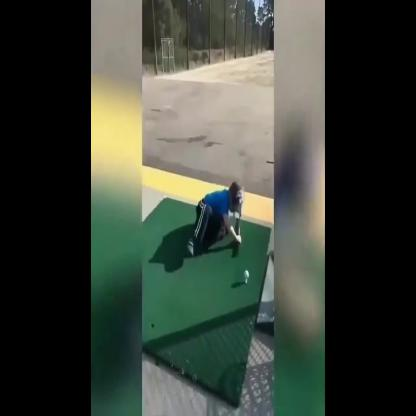Fall_Down: (185, 174, 248, 262)
